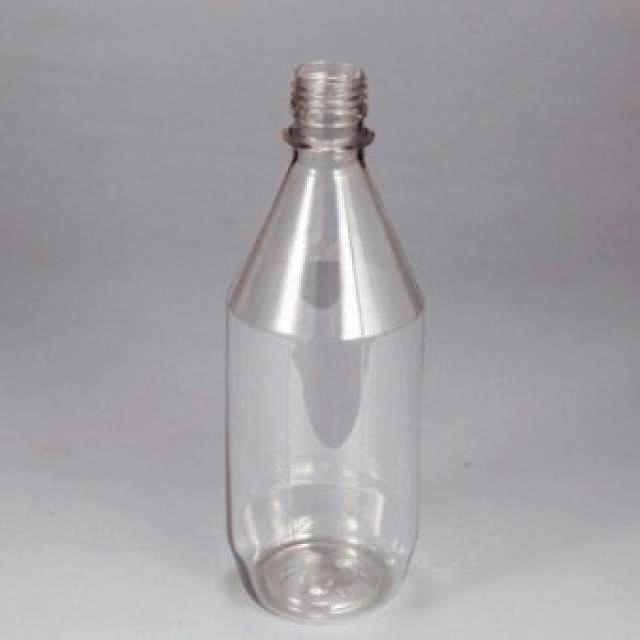bottle: (226, 59, 423, 618)
